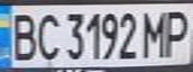1: (81, 9, 103, 61)
2: (118, 8, 142, 60)
3: (60, 8, 84, 61)
9: (100, 8, 121, 61)
B: (3, 9, 42, 62)
C: (33, 9, 63, 61)
M: (139, 7, 172, 58)
P: (160, 6, 193, 57)
